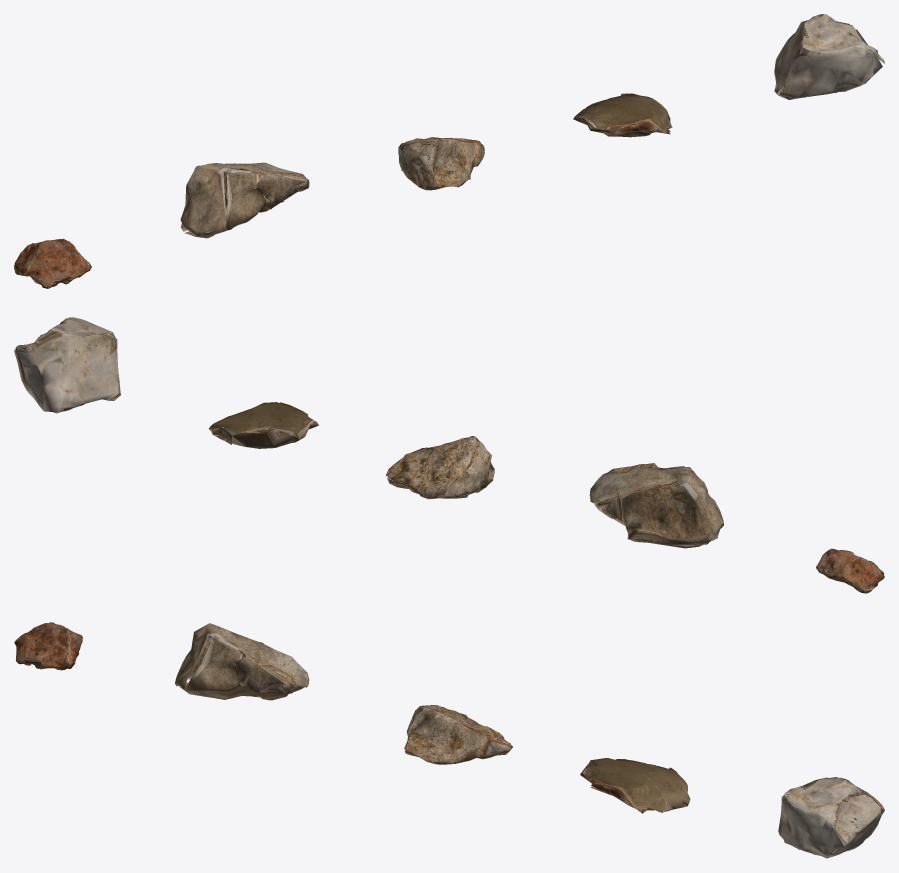
The model's file is namaqualand_stones_01.gltf.
3 views of the same model, one above another, from view 1: azimuth 30°, elevation 25°; view 2: azimuth 150°, elevation 25°; view 3: azimuth 330°, elevation 25° (orthographic).
Visible parts, largest first — view 1: namaqualand_stones_01_e, namaqualand_stones_01_b, namaqualand_stones_01_c, namaqualand_stones_01_d, namaqualand_stones_01_a; view 2: namaqualand_stones_01_b, namaqualand_stones_01_e, namaqualand_stones_01_c, namaqualand_stones_01_d, namaqualand_stones_01_a; view 3: namaqualand_stones_01_b, namaqualand_stones_01_e, namaqualand_stones_01_c, namaqualand_stones_01_d, namaqualand_stones_01_a.
Boxes of the visible parts, bbox=[...] form: namaqualand_stones_01_e: bbox=[774, 14, 884, 99]; namaqualand_stones_01_b: bbox=[180, 162, 309, 238]; namaqualand_stones_01_c: bbox=[398, 137, 484, 190]; namaqualand_stones_01_d: bbox=[573, 93, 672, 137]; namaqualand_stones_01_a: bbox=[14, 238, 91, 288]; namaqualand_stones_01_b: bbox=[589, 463, 723, 548]; namaqualand_stones_01_e: bbox=[14, 317, 120, 413]; namaqualand_stones_01_c: bbox=[386, 436, 494, 499]; namaqualand_stones_01_d: bbox=[208, 402, 318, 448]; namaqualand_stones_01_a: bbox=[816, 548, 884, 593]; namaqualand_stones_01_b: bbox=[175, 623, 309, 700]; namaqualand_stones_01_e: bbox=[778, 777, 884, 858]; namaqualand_stones_01_c: bbox=[404, 705, 512, 764]; namaqualand_stones_01_d: bbox=[580, 758, 690, 813]; namaqualand_stones_01_a: bbox=[14, 622, 82, 670].
Bounding box in the file's own units: 1.02 × 0.082 × 0.1121.
Materials: 1 (1 with a texture image).
